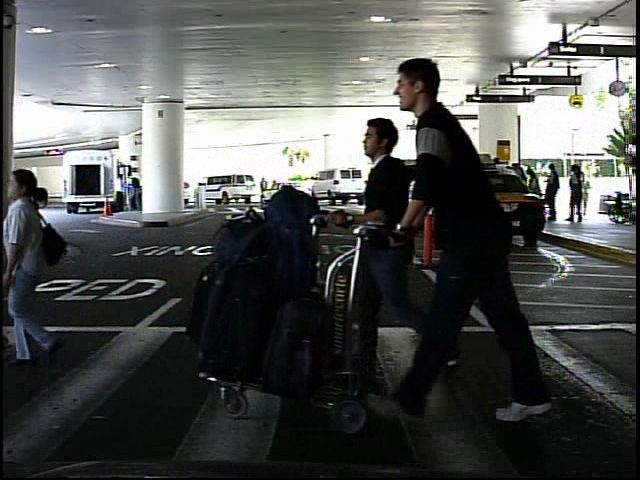person: (401, 47, 547, 425), (339, 116, 433, 390), (580, 171, 599, 219), (114, 173, 127, 212)
